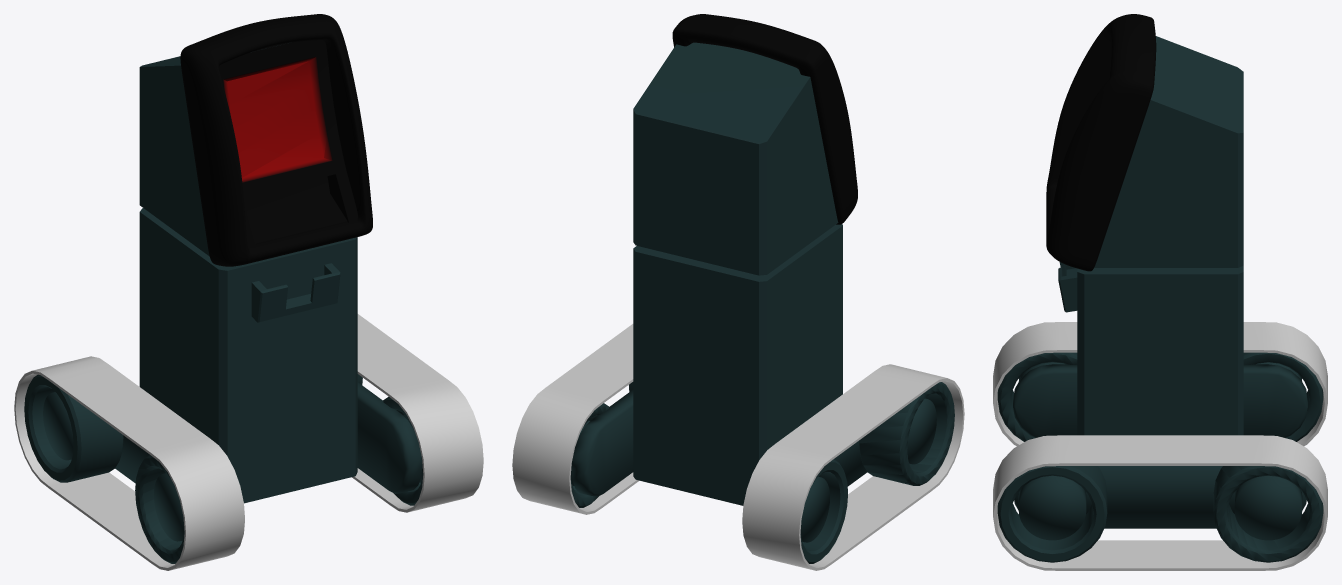
Rendered from Tank.fbx.
The picture shows the model from 3 angles, left to right: view 1: azimuth 30°, elevation 25°; view 2: azimuth 150°, elevation 25°; view 3: azimuth 270°, elevation 25°; orthographic projection. The views are drawn at different scales.
Visible parts, largest first — view 1: Lower, trim, Tread, BracketAndWheels, Upper; view 2: Lower, Upper, Tread, BracketAndWheels, trim; view 3: BracketAndWheels, Lower, Upper, Tread, trim.
Part boxes in pixels (x1,y1,x2,y2): Lower: [139, 208, 357, 503]; trim: [180, 14, 372, 266]; Tread: [14, 314, 483, 570]; BracketAndWheels: [24, 374, 423, 563]; Upper: [139, 43, 288, 256]; Lower: [633, 224, 842, 505]; Upper: [633, 42, 838, 275]; Tread: [512, 324, 964, 570]; BracketAndWheels: [570, 382, 954, 563]; trim: [672, 14, 857, 224]; BracketAndWheels: [997, 352, 1323, 562]; Lower: [1058, 262, 1243, 435]; Upper: [1094, 36, 1243, 267]; Tread: [993, 322, 1327, 570]; trim: [1046, 14, 1156, 271].
Bounding box in the file's own units: 237 × 361 × 237.
